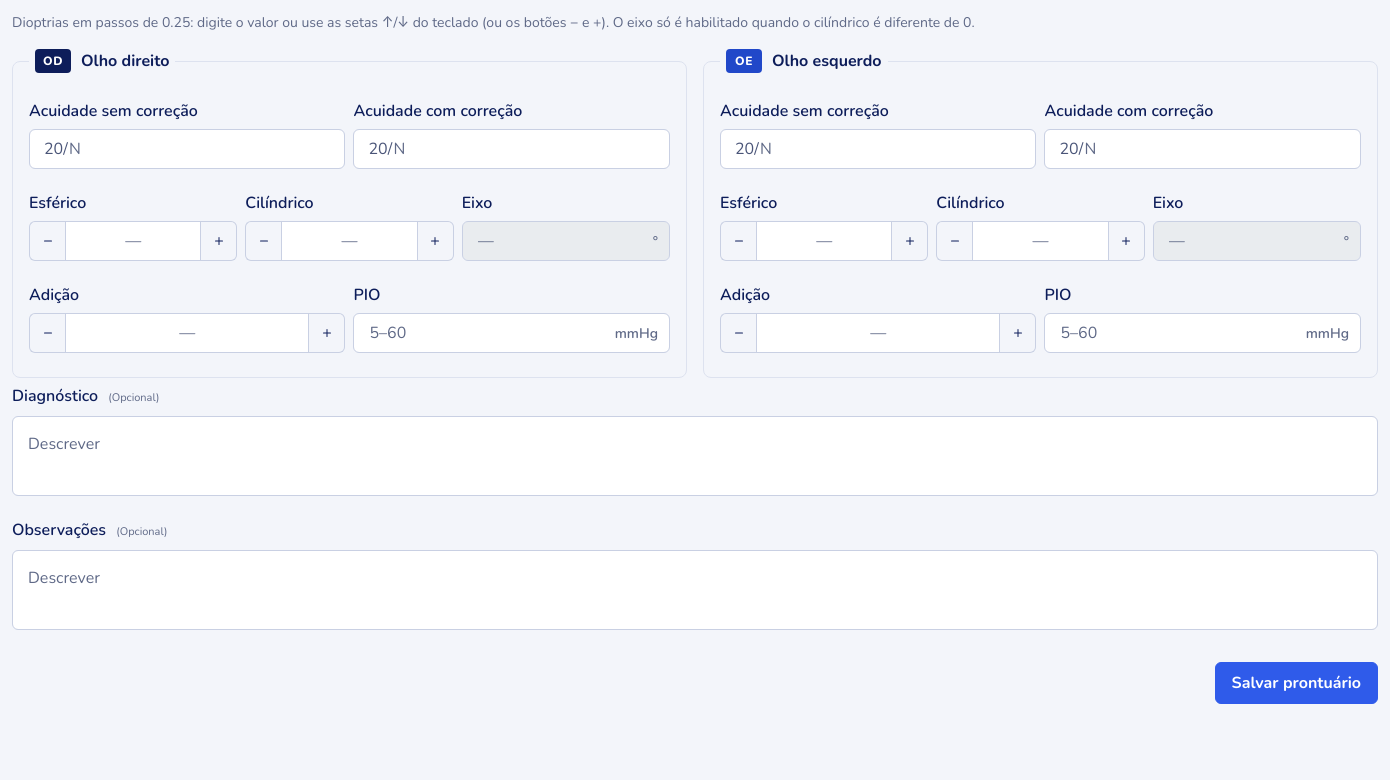
Scenario: EyeExamForm › validates before saving and focuses the first error
The image size is (1390, 780).
Type "-0.30" into the field with id "ee-od-cylindrical" at (349, 241), box x1=281 y1=221 x2=418 y2=261
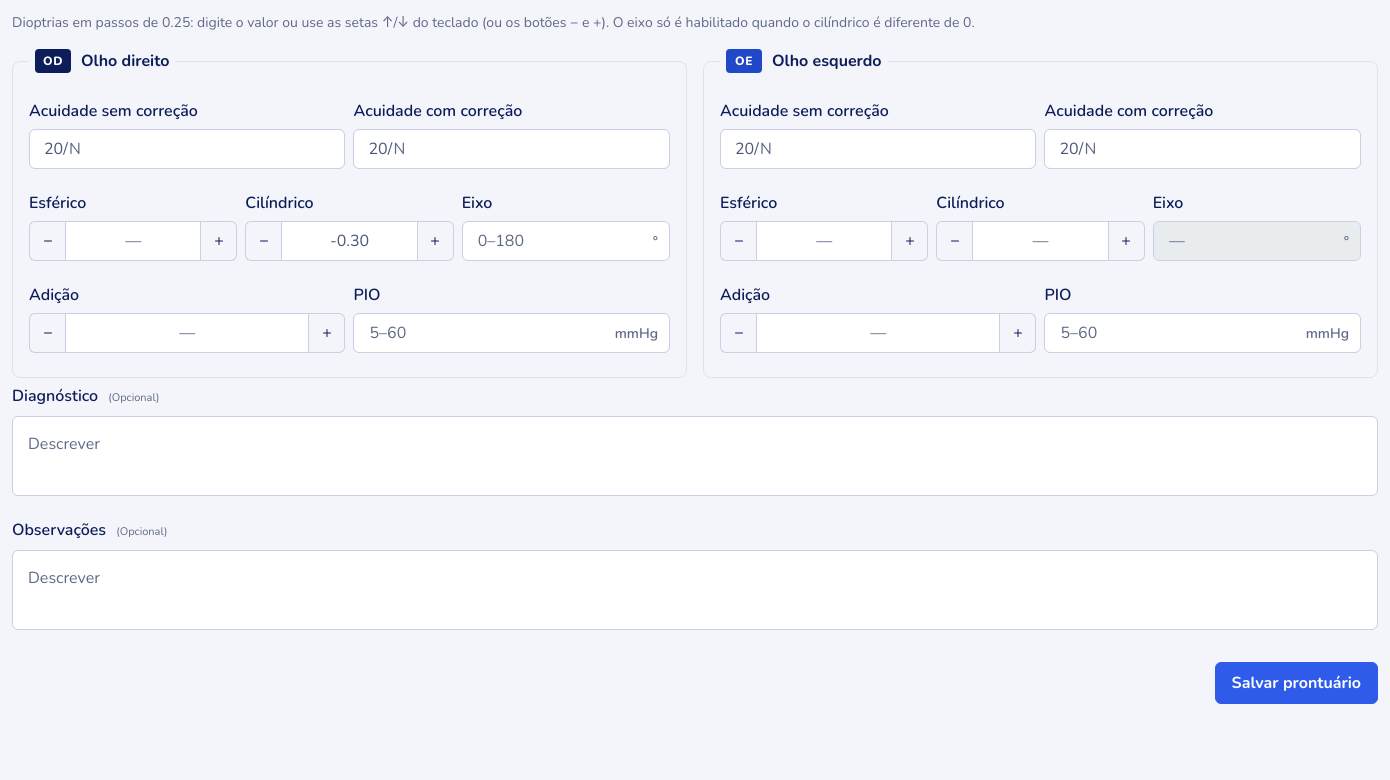
Type "99" into the field with id "ee-oe-iop" at (1203, 333), box x1=1044 y1=313 x2=1361 y2=353
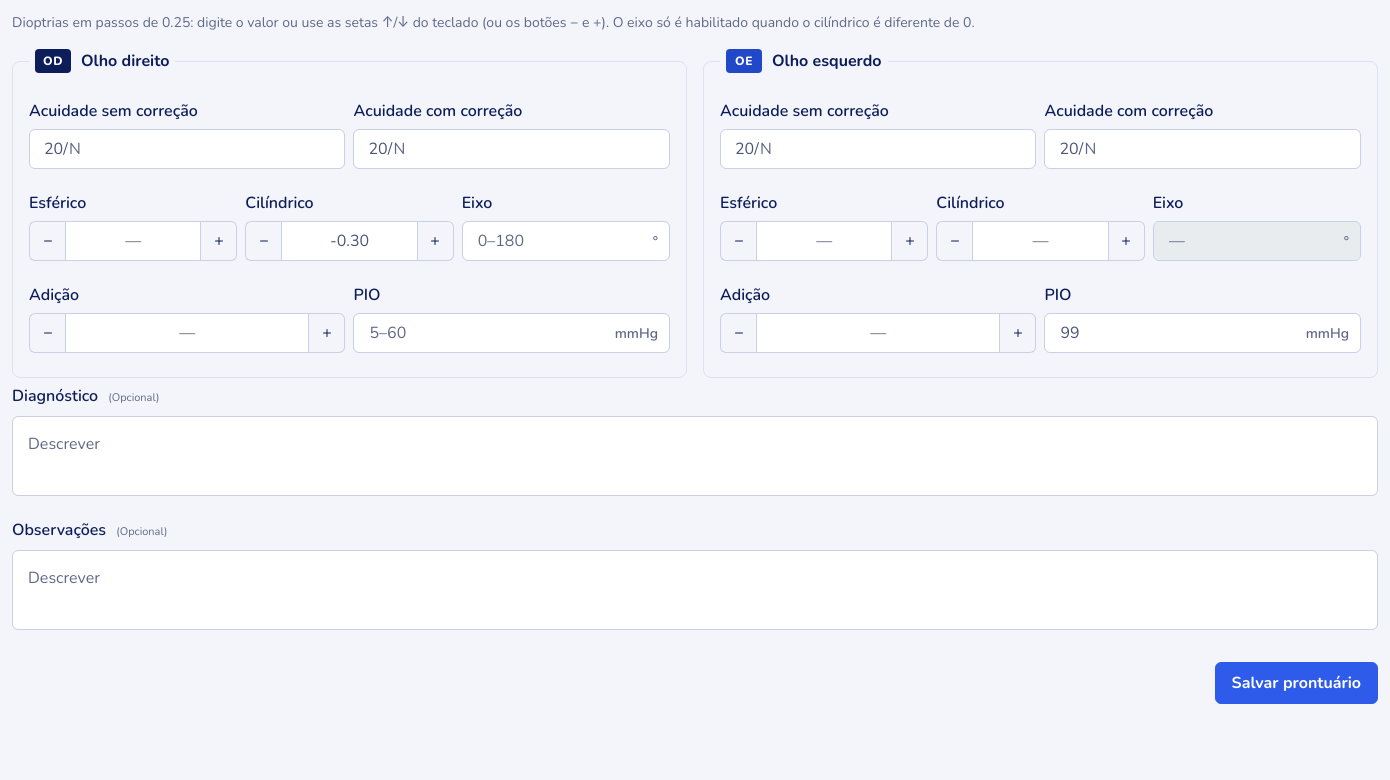
Submit the form
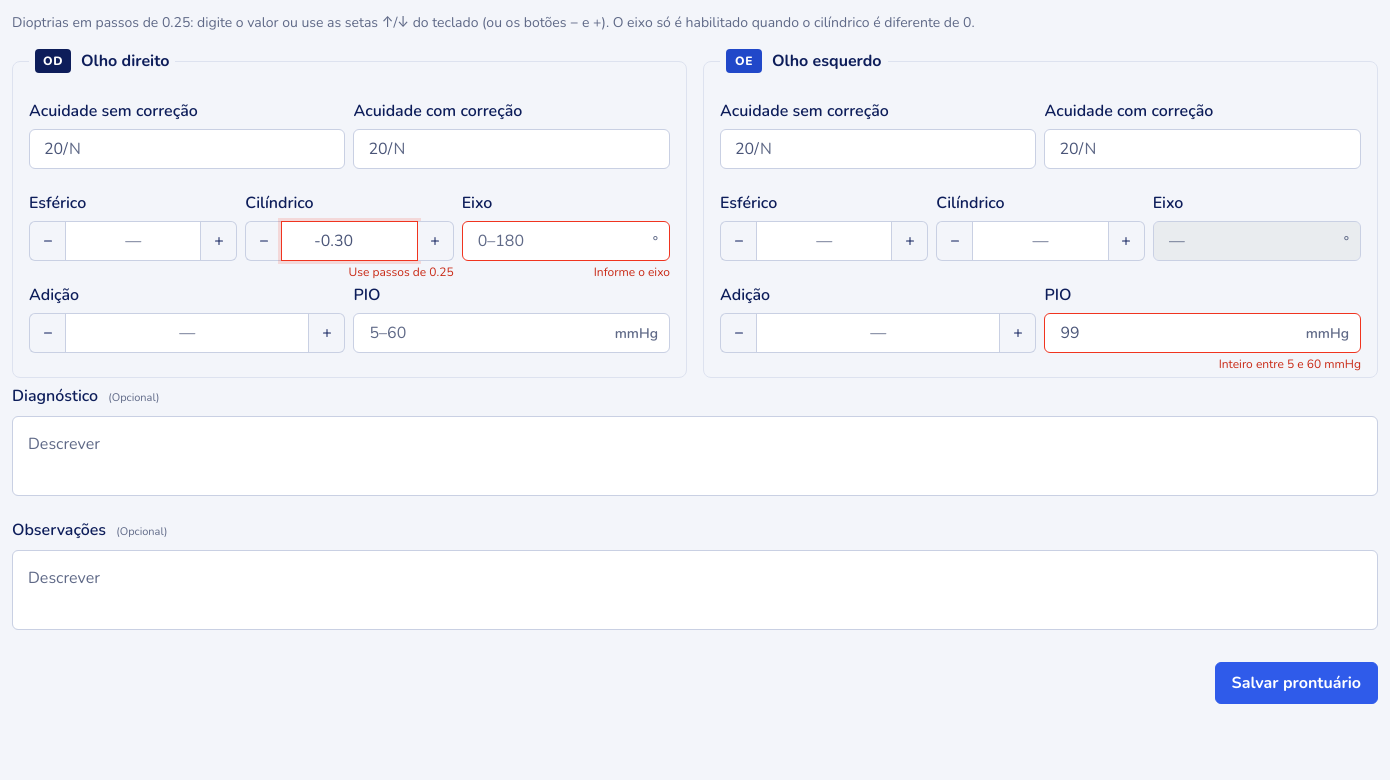
Result: the text with id "ee-od-cylindrical-error" reads "Use passos de 0.25" at x1=348 y1=264 x2=454 y2=280
Result: the text with id "ee-od-axis-error" reads "Informe o eixo" at x1=594 y1=264 x2=670 y2=280
Result: the text with id "ee-oe-iop-error" reads "Inteiro entre 5 e 60 mmHg" at x1=1219 y1=356 x2=1361 y2=372
